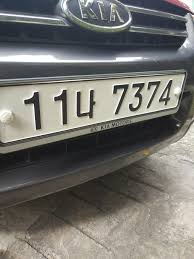car: (1, 72, 188, 140)
